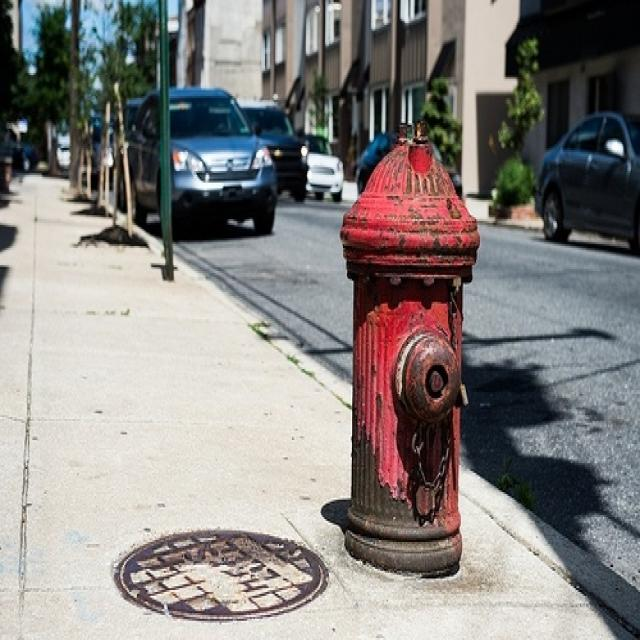fire_hydrant: (280, 103, 542, 587)
